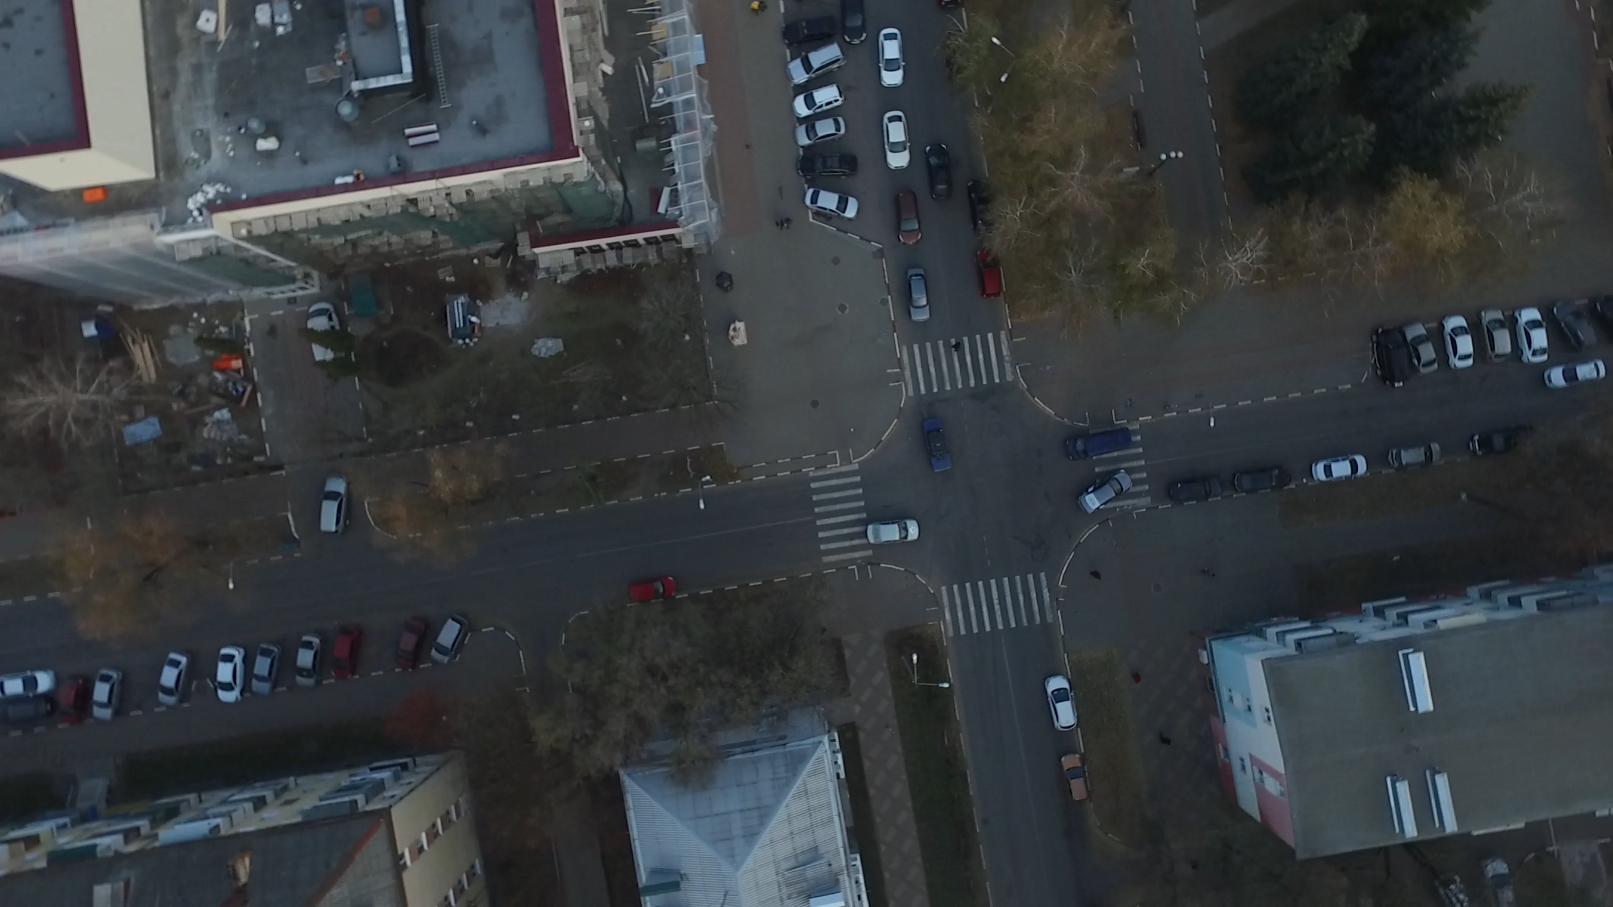car: (1075, 471, 1136, 514), (314, 476, 353, 539), (1040, 671, 1080, 734), (1554, 296, 1596, 355), (210, 642, 249, 707), (1371, 324, 1409, 386), (803, 184, 860, 225), (430, 614, 472, 667), (787, 44, 847, 81), (1064, 426, 1132, 458), (797, 148, 857, 183), (392, 618, 430, 673), (1401, 320, 1439, 375), (879, 111, 913, 171), (1468, 426, 1538, 455), (86, 664, 124, 718), (875, 25, 907, 87), (155, 652, 192, 707), (1517, 309, 1551, 367), (328, 629, 363, 684), (1442, 315, 1477, 371), (1480, 306, 1512, 365), (55, 674, 92, 725), (248, 642, 284, 694), (1544, 358, 1607, 386), (892, 188, 924, 245), (291, 632, 323, 688), (795, 116, 850, 148), (902, 265, 932, 322), (1235, 462, 1291, 493), (922, 416, 952, 473), (777, 16, 831, 47), (923, 141, 952, 198), (1167, 474, 1221, 504), (1386, 439, 1441, 467), (625, 573, 678, 602), (1309, 455, 1371, 480), (835, 1, 869, 47), (975, 243, 1001, 299), (865, 518, 921, 545), (792, 85, 843, 114), (1060, 750, 1090, 798), (2, 672, 55, 699), (966, 178, 992, 233)
